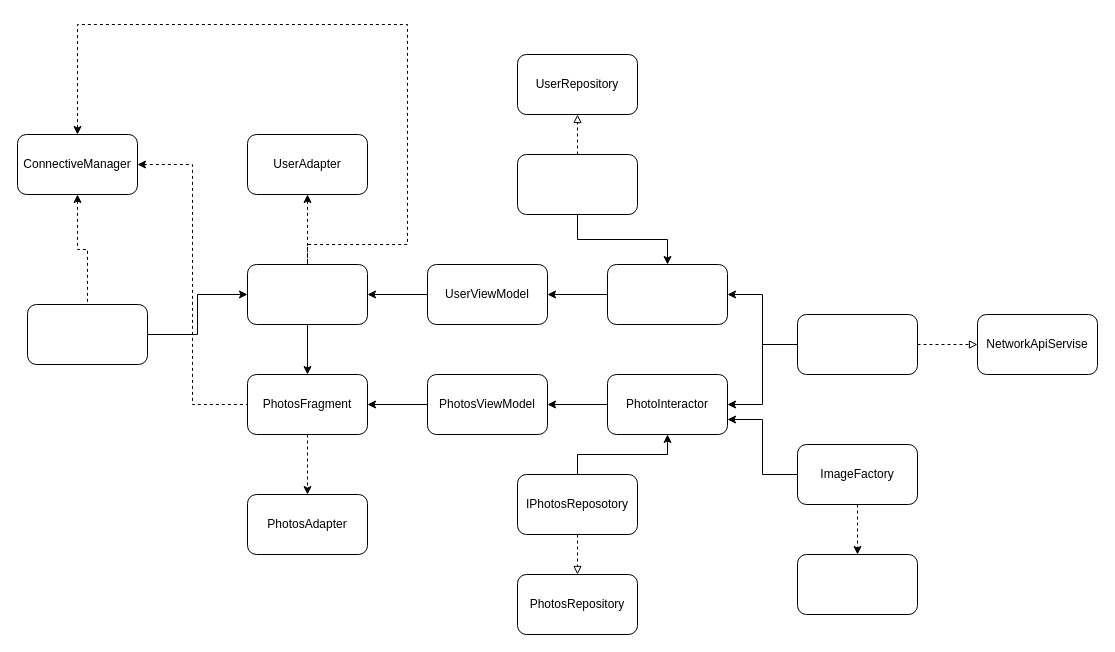
Some shapes in this 1115 by 652 pixel diagram are drawn without their labels. Here are the shapes that lost their labels. From the top down, the box of each, then its label:
(516, 154, 638, 214): IUserRepository
(246, 264, 368, 324): UserFragment
(606, 264, 728, 324): UserInteractor
(26, 304, 148, 364): MainActivity
(796, 314, 918, 374): INetworkApiServise
(796, 554, 918, 614): ImageDownloader
